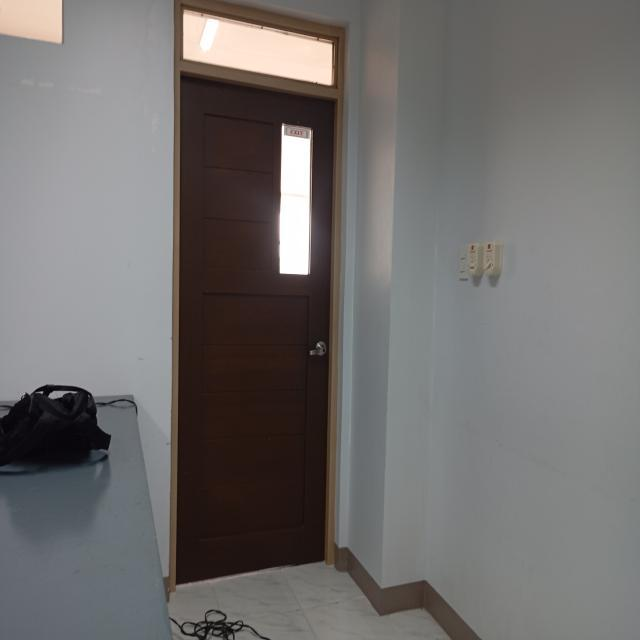door: (167, 0, 352, 589)
